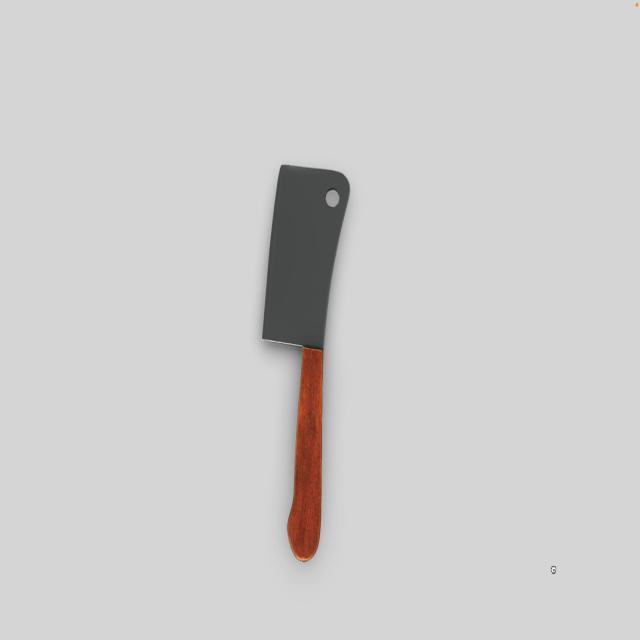cleaver: (269, 164, 349, 560)
